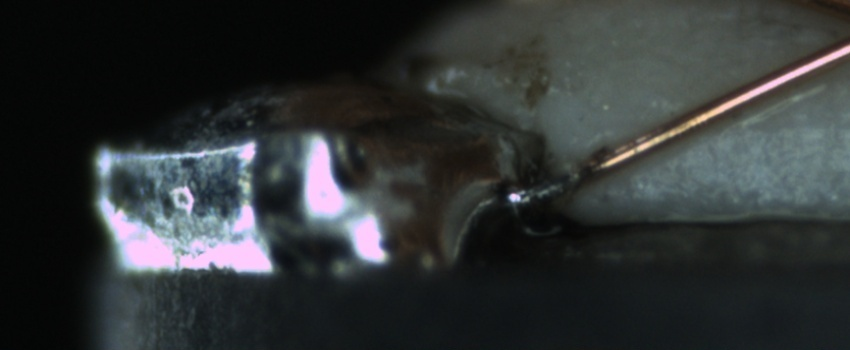CL: (833, 4, 850, 54)
DL: (713, 94, 849, 158)
TS: (507, 178, 567, 207)
